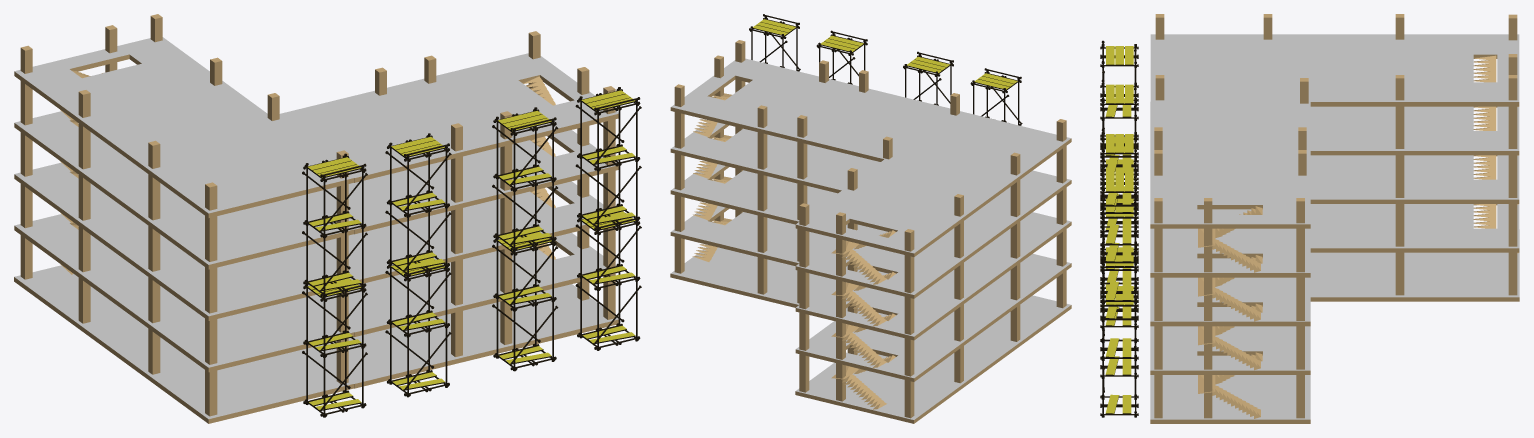
The model's file is site-frame-a.glb.
3 views of the same model, side by side, from view 1: azimuth 30°, elevation 25°; view 2: azimuth 150°, elevation 25°; view 3: azimuth 270°, elevation 25° (orthographic). The views are drawn at different scales.
Bounding box in the file's own units: 30.7 × 17.58 × 28.61.
